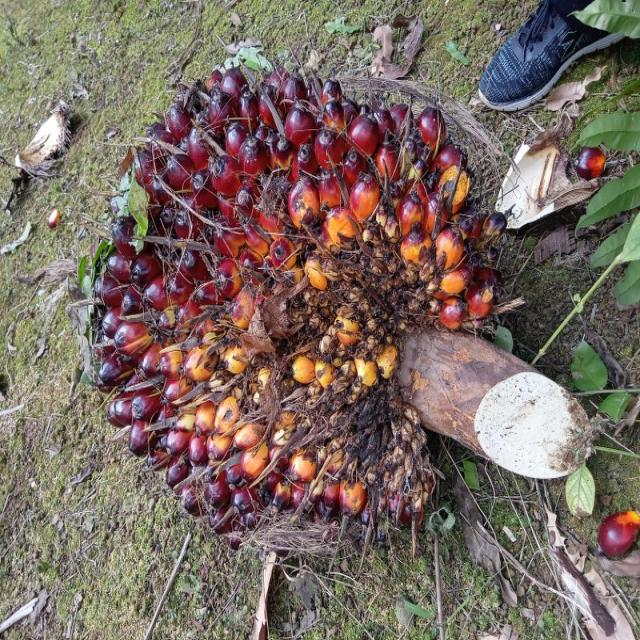fraksi 1: (91, 63, 492, 553)
